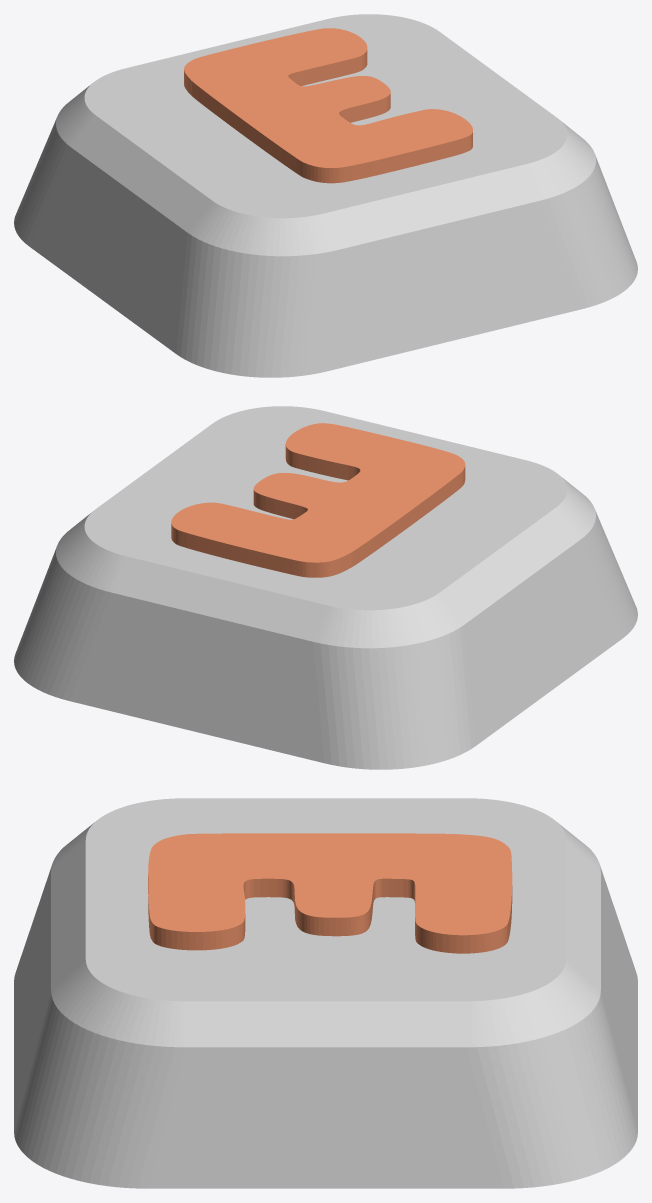
Rendered from cap-E.glb.
The picture shows the model from 3 angles, top to bottom: view 1: azimuth 30°, elevation 25°; view 2: azimuth 150°, elevation 25°; view 3: azimuth 270°, elevation 25°; orthographic projection. The views are drawn at different scales.
Visible parts, largest first — view 1: cap_0, glyph_1; view 2: cap_0, glyph_1; view 3: cap_0, glyph_1.
Part boxes in pixels (x1,y1,x2,y2): cap_0: (14,14,637,377); glyph_1: (184,28,472,183); cap_0: (14,406,637,769); glyph_1: (171,423,465,577); cap_0: (14,798,637,1188); glyph_1: (148,833,512,953).
Bounding box in the file's own units: 18 × 5.59 × 18.
